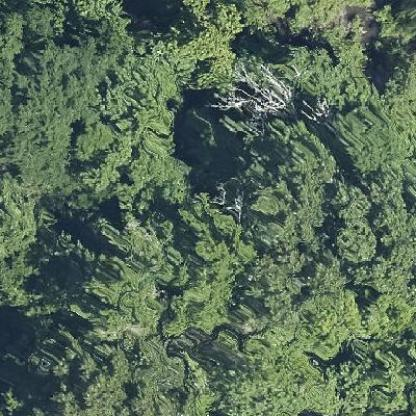tree-top: (85, 213, 183, 345), (63, 338, 185, 415), (327, 97, 415, 178)
